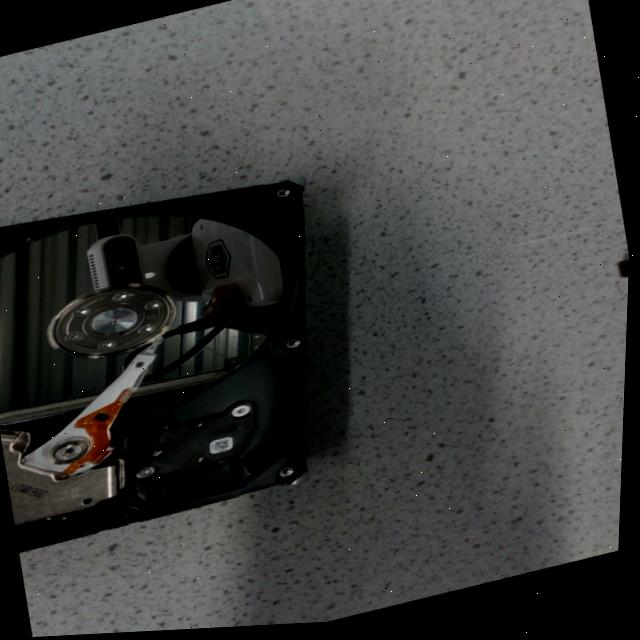actuator arm: (22, 344, 161, 481)
actuator axis: (57, 443, 88, 461)
case: (0, 182, 310, 552)
magnet: (3, 430, 121, 525)
pcb connector: (152, 405, 257, 476)
platter: (0, 211, 296, 426)
platter holder: (50, 285, 178, 359)
screw: (138, 467, 160, 480), (234, 407, 254, 419), (114, 292, 133, 302), (147, 302, 164, 311), (69, 332, 85, 341), (140, 325, 154, 335), (78, 309, 91, 317), (103, 343, 118, 349)
